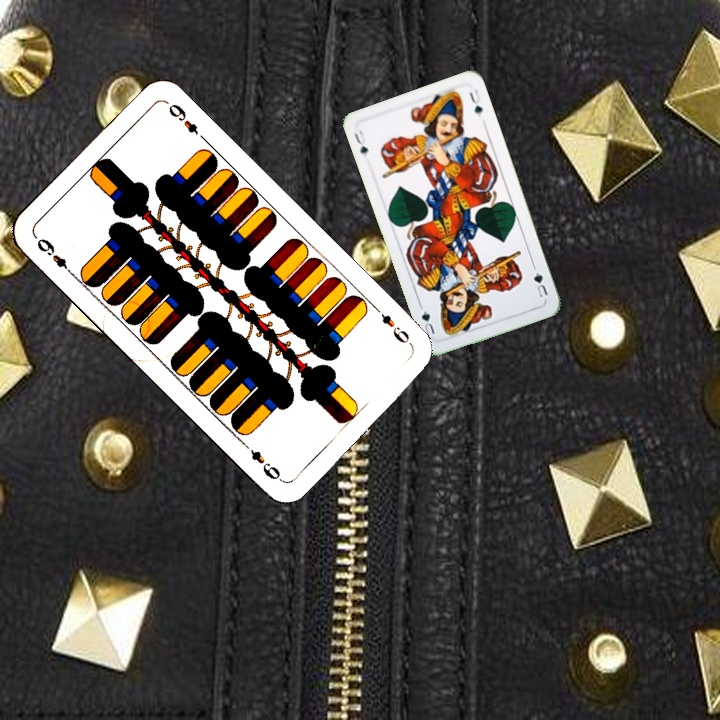E9: (31, 232, 77, 279), (370, 302, 416, 349)
GU: (529, 262, 551, 300), (350, 126, 371, 160)
